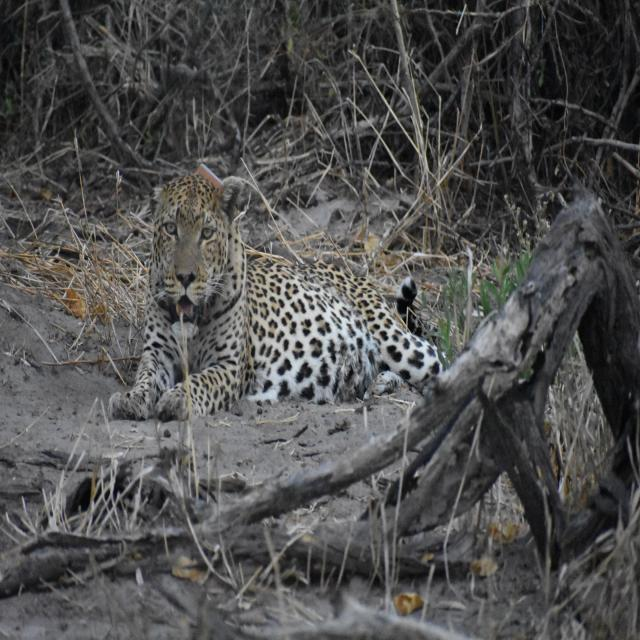Leopard: (110, 172, 448, 418)
